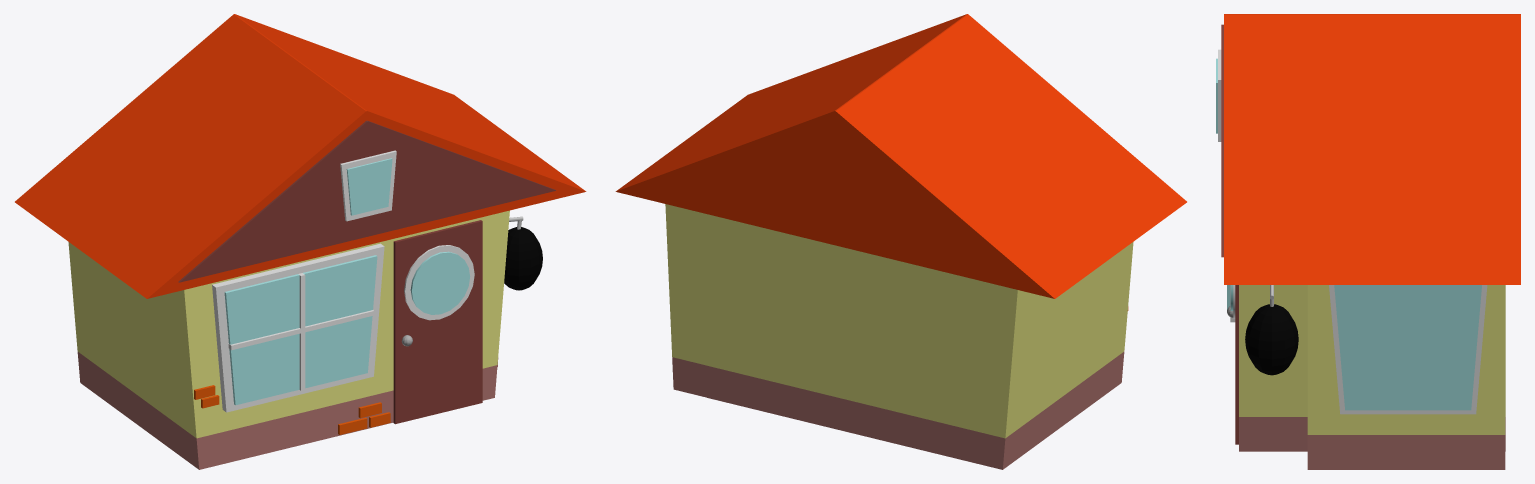
Rendered from Building 3.fbx.
3 views of the same model, side by side, from view 1: azimuth 30°, elevation 25°; view 2: azimuth 150°, elevation 25°; view 3: azimuth 270°, elevation 25° (orthographic). The views are drawn at different scales.
Parts seen in each view (by area): view 1: pCube20; view 2: pCube20; view 3: pCube20.
Part boxes in pixels (left/top/right/bottom): pCube20: left=15, top=14, right=586, bottom=469; pCube20: left=615, top=14, right=1186, bottom=469; pCube20: left=1216, top=14, right=1520, bottom=469.
Bounding box in the file's own units: 25.58 × 18.07 × 13.7.
